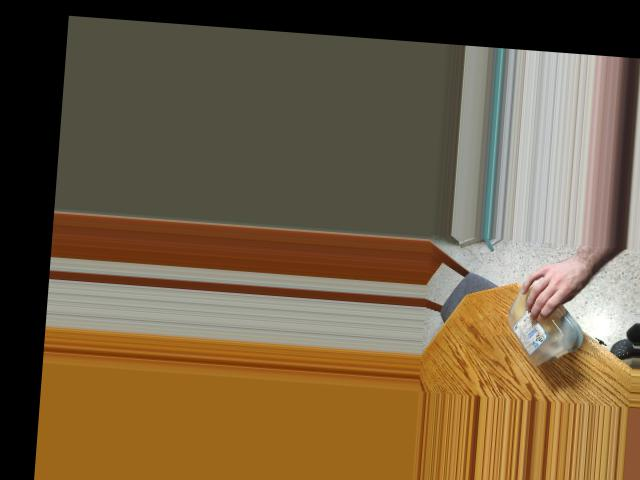cheese: (504, 271, 585, 368)
